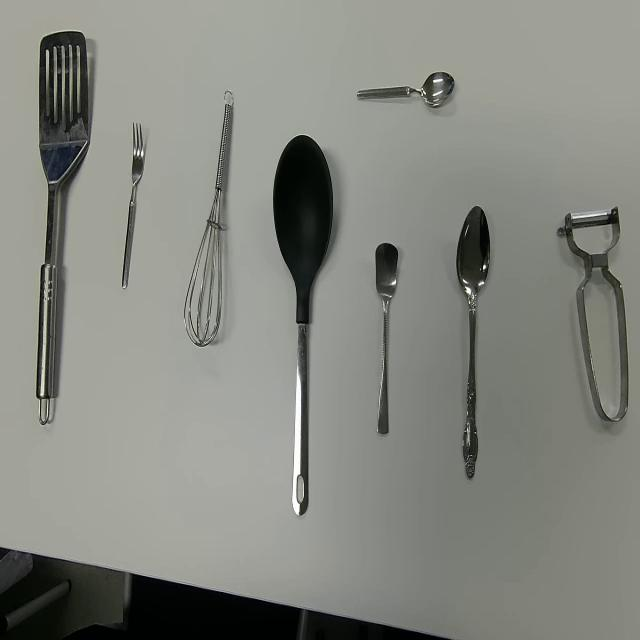Desert-Spoon: (455, 203, 491, 479)
Dinner-Fork: (121, 120, 145, 290)
Peeler: (556, 202, 630, 424)
Serving-Spoon: (272, 132, 334, 514), (35, 29, 89, 426)
Tea-Spoon: (374, 241, 399, 436), (356, 70, 455, 109)
Whisk: (183, 88, 235, 347)
